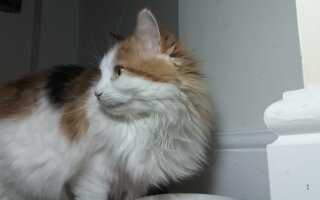clara: (4, 7, 218, 200)
